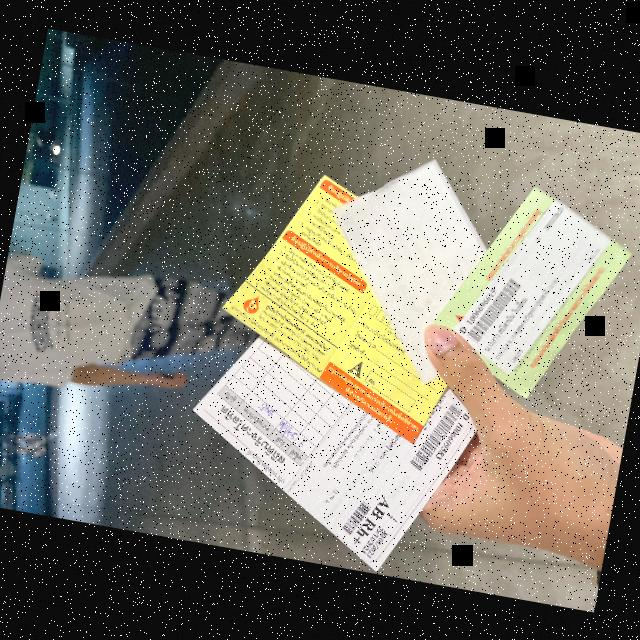scrap_paper: (170, 314, 479, 584), (203, 156, 471, 442), (417, 170, 640, 415), (310, 150, 507, 393)
